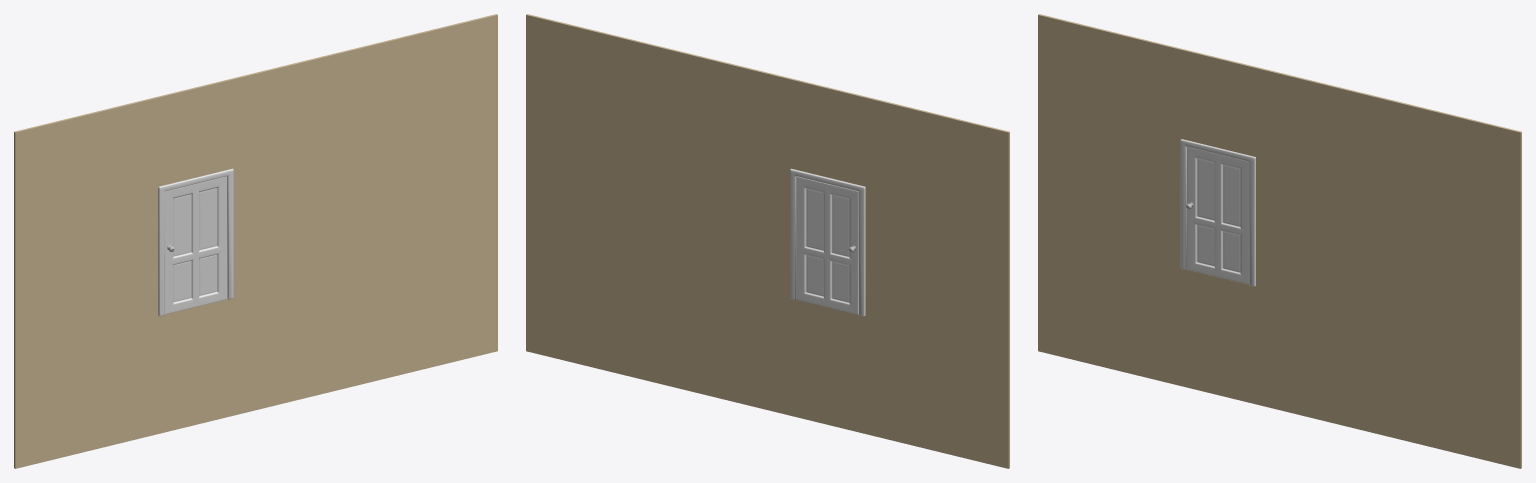
Rendered from wallN.fbx.
3 renders of one model, left to right at view 1: azimuth 30°, elevation 25°; view 2: azimuth 150°, elevation 25°; view 3: azimuth 330°, elevation 25°, orthographic.
Visible parts, largest first — view 1: wallN, door, door_frame; view 2: wallN, door, door_frame; view 3: wallN, door, door_frame.
Boxes of the visible parts, box(x1,y1,x2,y2) form: wallN: box(14, 14, 497, 468); door: box(165, 176, 227, 314); door_frame: box(158, 168, 233, 316); wallN: box(526, 14, 1009, 468); door: box(796, 176, 858, 314); door_frame: box(790, 168, 865, 316); wallN: box(1038, 14, 1521, 468); door: box(1187, 146, 1249, 284); door_frame: box(1180, 139, 1255, 286).
Bounding box in the file's own units: 776 × 517 × 27.14.
